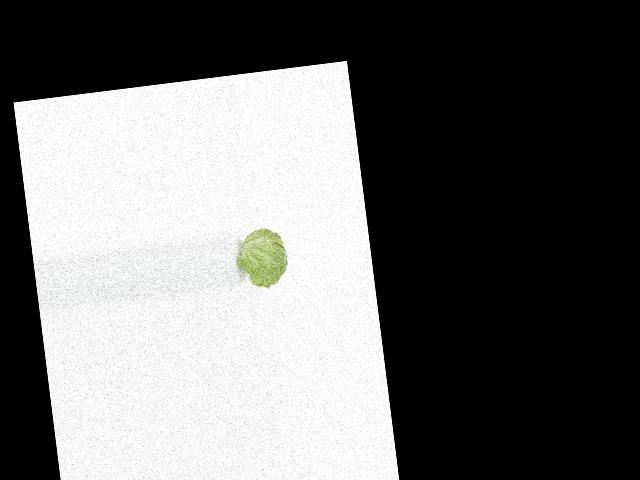lettuce: (239, 222, 292, 292)
